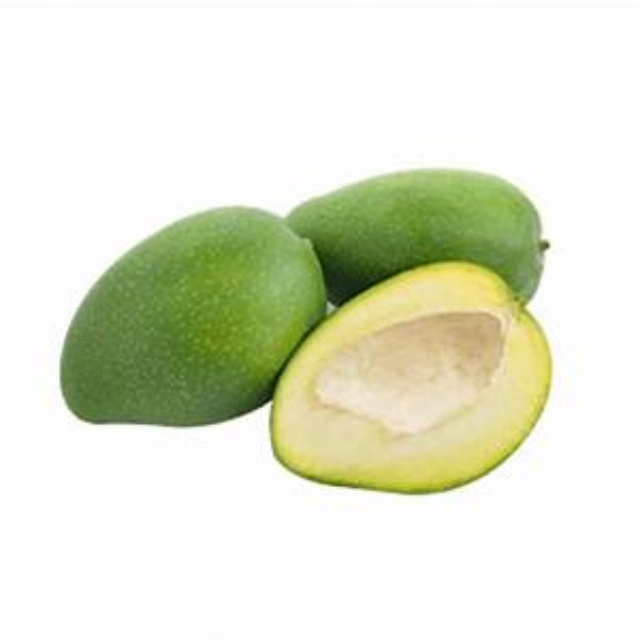mango: (270, 262, 553, 494), (58, 211, 332, 420), (289, 183, 538, 303)
